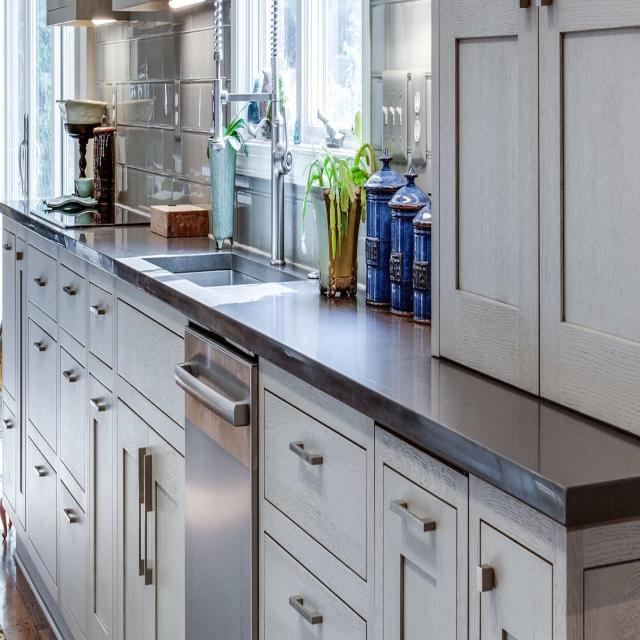dishwasher: (179, 303, 265, 640)
